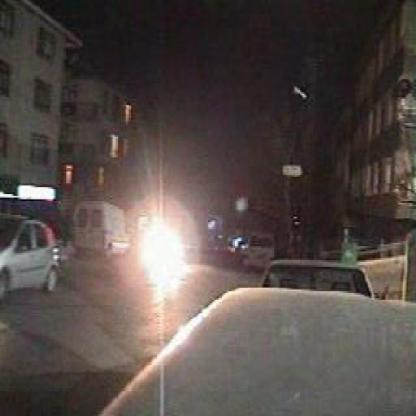other: (137, 212, 191, 293)
